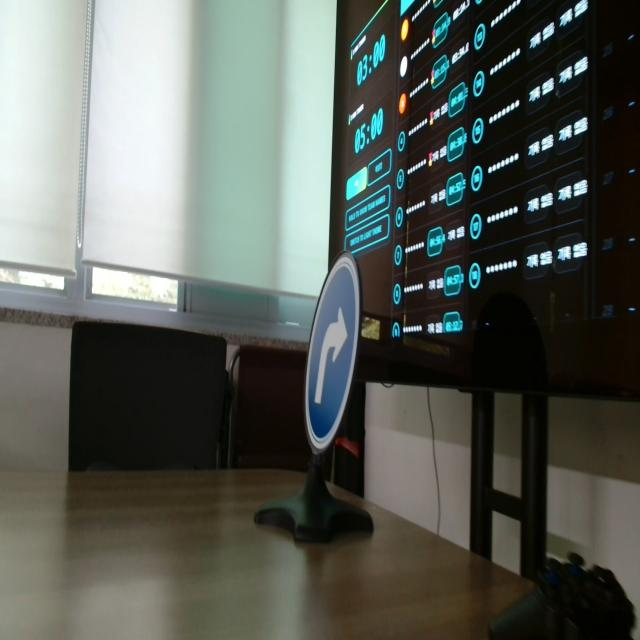right_dierection: (300, 254, 360, 456)
